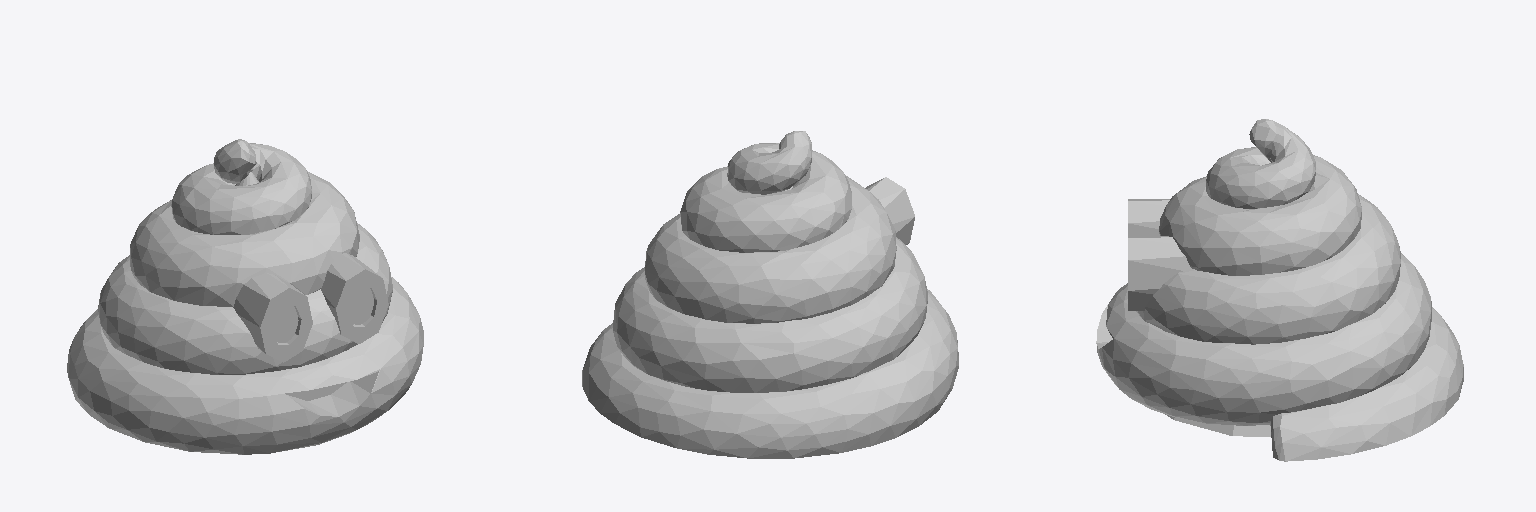
Rendered from LOD1emoji_poop.obj.
3 renders of one model, left to right at view 1: azimuth 30°, elevation 25°; view 2: azimuth 150°, elevation 25°; view 3: azimuth 270°, elevation 25°, orthographic.
Visible parts, largest first — view 1: PoopEmoji; view 2: PoopEmoji; view 3: PoopEmoji.
Part boxes in pixels (x1,y1,x2,y2): PoopEmoji: (67,139,423,454); PoopEmoji: (582,131,958,458); PoopEmoji: (1096,119,1463,461).
Size of the model in its own units: 0.2076 by 0.1503 by 0.1998.